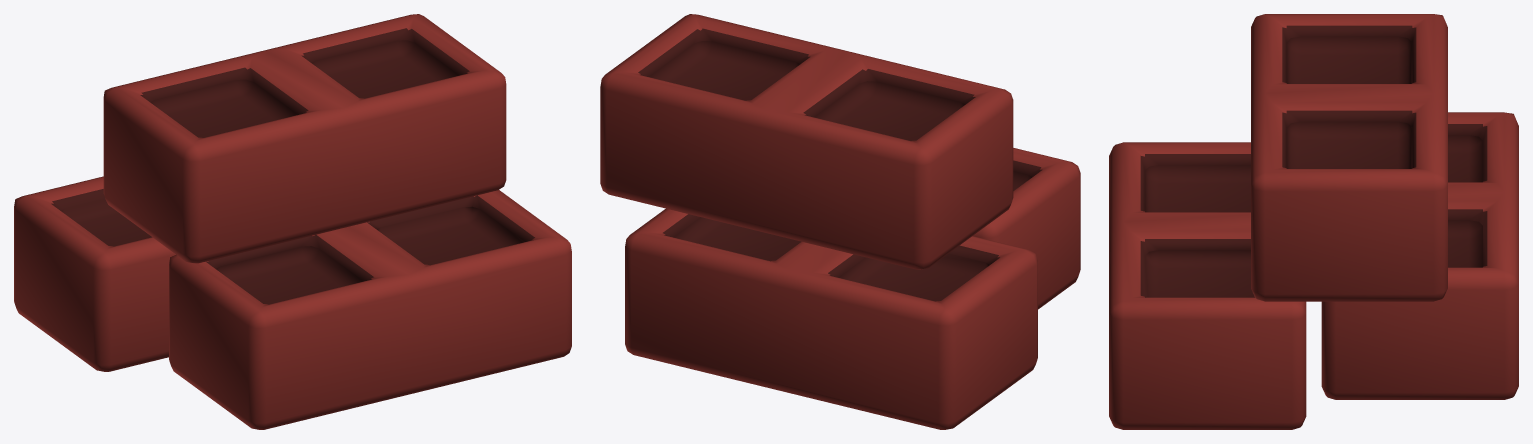
The model's file is Stone.fbx.
3 views of the same model, side by side, from view 1: azimuth 30°, elevation 25°; view 2: azimuth 150°, elevation 25°; view 3: azimuth 270°, elevation 25° (orthographic). The views are drawn at different scales.
Parts seen in each view (by area): view 1: brick.001; view 2: brick.001; view 3: brick.001.
Part boxes in pixels (x1,y1,x2,y2): brick.001: (14, 14, 571, 429); brick.001: (600, 14, 1080, 429); brick.001: (1109, 14, 1518, 429).
Size of the model in its own units: 86.03 by 51.47 by 74.41.
